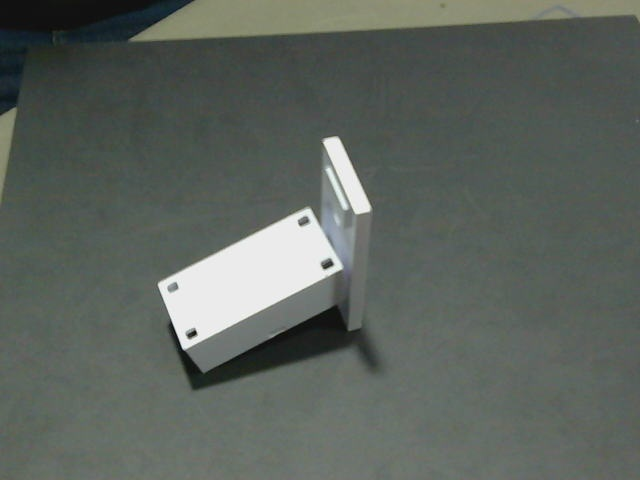enclosure_good: (159, 209, 342, 349), (324, 137, 370, 214)
